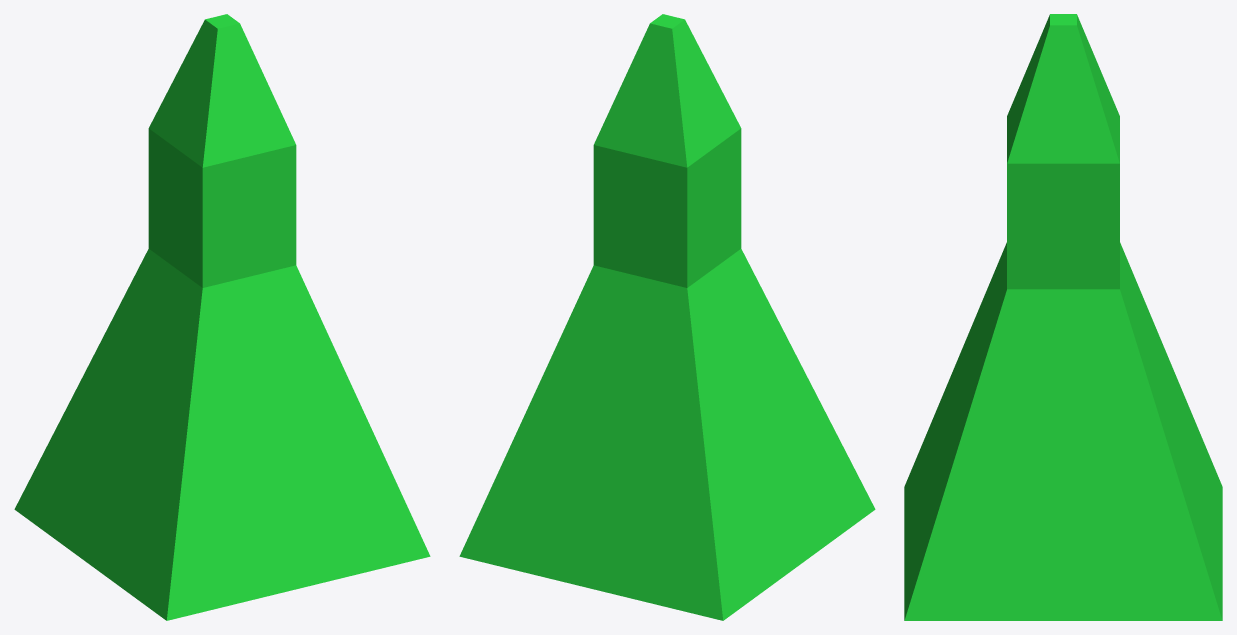
File: zielcube2.gltf
The picture shows the model from 3 angles, left to right: view 1: azimuth 30°, elevation 25°; view 2: azimuth 150°, elevation 25°; view 3: azimuth 270°, elevation 25°; orthographic projection. The views are drawn at different scales.
Parts seen in each view (by area): view 1: Cube; view 2: Cube; view 3: Cube.
Boxes of the visible parts, x1=… form: Cube: x1=14, y1=14, x2=430, y2=620; Cube: x1=459, y1=14, x2=875, y2=620; Cube: x1=904, y1=14, x2=1222, y2=620.
Bounding box in the file's own units: 2 × 3.71 × 2.
